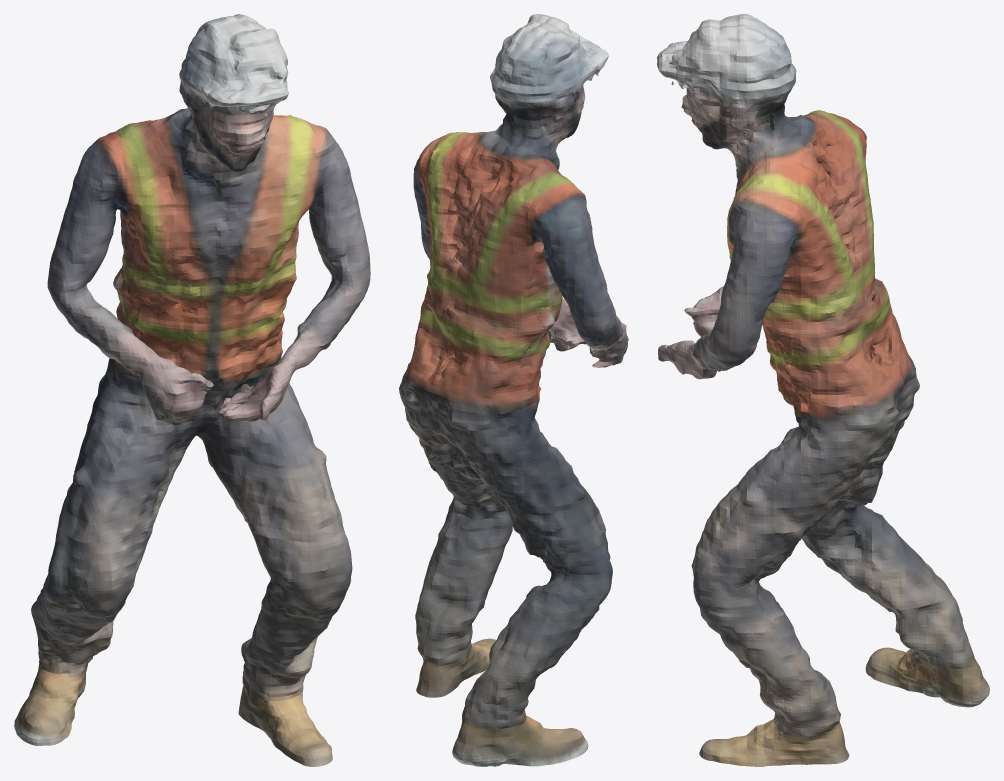
Rendered from standup_13.glb.
The picture shows the model from 3 angles, left to right: view 1: azimuth 30°, elevation 25°; view 2: azimuth 150°, elevation 25°; view 3: azimuth 270°, elevation 25°; orthographic projection. The views are drawn at different scales.
Visible parts, largest first — view 1: world; view 2: world; view 3: world.
Part boxes in pixels (<box>): world: <box>14,14,370,766</box>; world: <box>399,14,628,766</box>; world: <box>657,14,989,766</box>.
Size of the model in its own units: 0.674 by 1.8 by 0.773.
